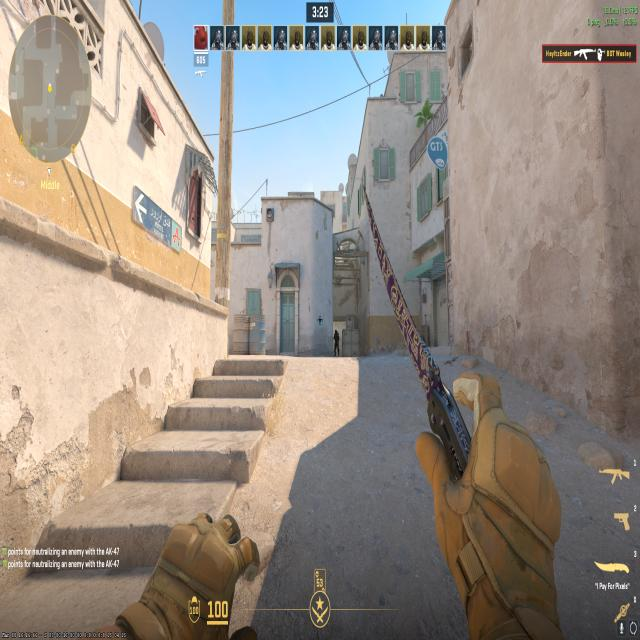ct: (332, 324, 340, 355)
